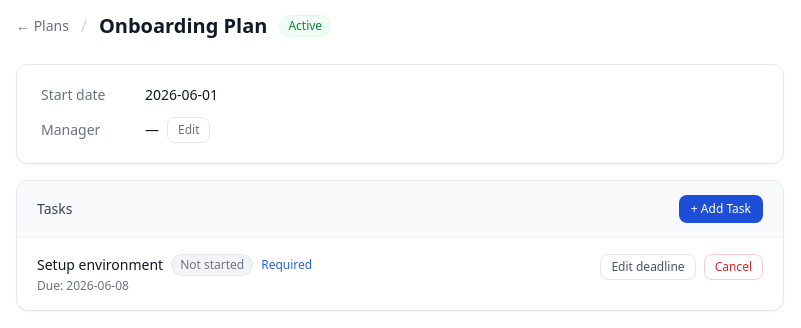
Test: PlanDetailPage › cancel button shows inline confirmation
Expected: the text "Setup environment" is shown, [37, 255, 163, 275]
Click the button "Cancel" at [733, 267], box [704, 254, 763, 280]
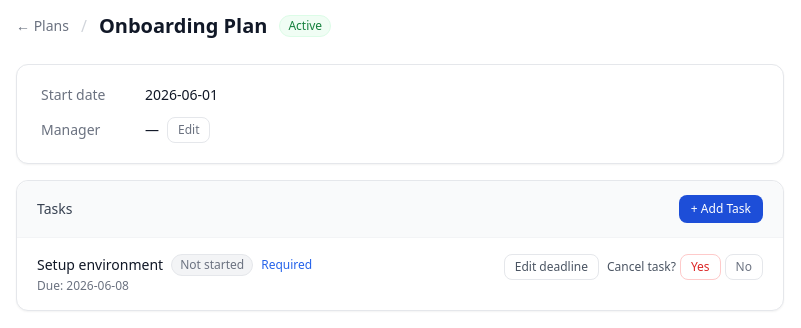
Expected: the text "Cancel task?" is shown, [607, 259, 676, 275]
Expected: the button "Yes" is shown, [680, 254, 721, 280]
Expected: the button "No" is shown, [725, 254, 763, 280]
